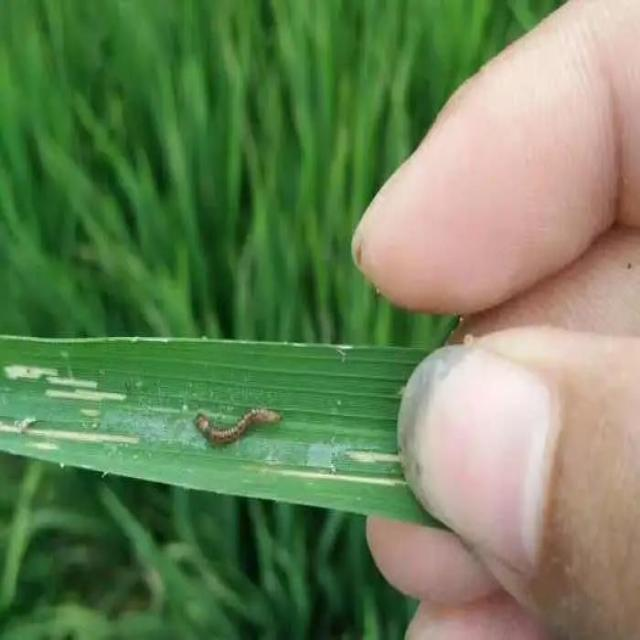pest: (194, 410, 285, 454)
